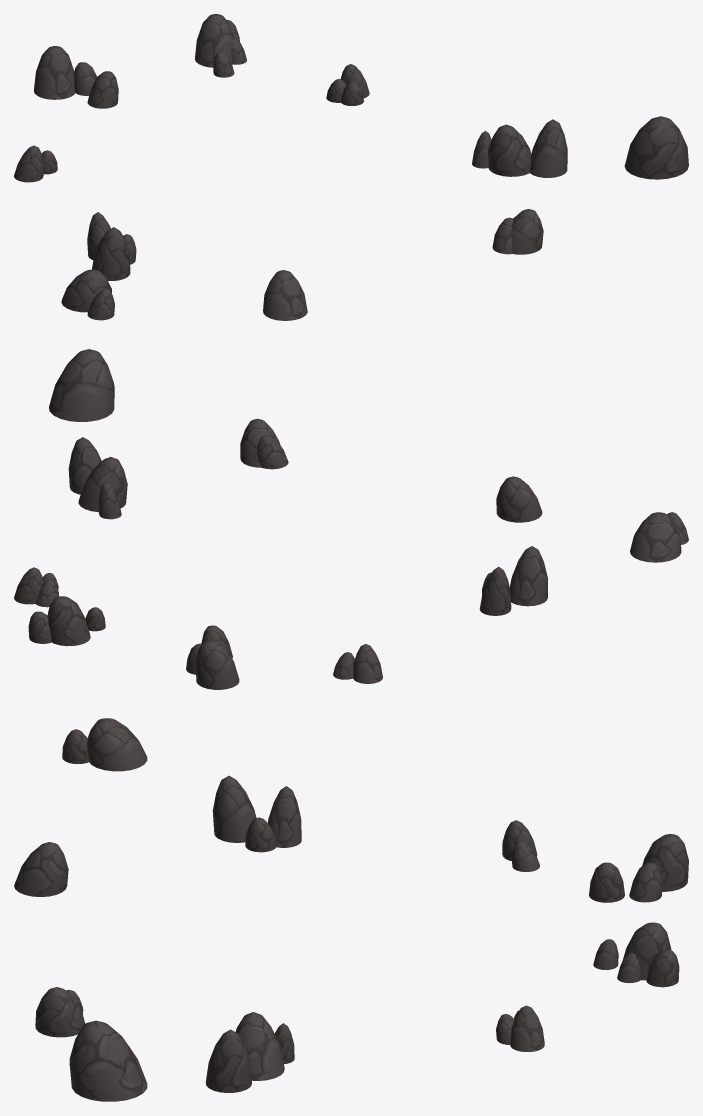
Rendered from rock_cluster_trial.fbx.
3 renders of one model, top to bottom at view 1: azimuth 30°, elevation 25°; view 2: azimuth 150°, elevation 25°; view 3: azimuth 270°, elevation 25°, orthographic. The views are drawn at different scales.
Parts seen in each view (by area): view 1: rockspike_012, rockspike_018, rockspike_010, rockspike_13, rockspike_016, rockspike_019, rockspike_02, rockspike_06, rockspike_22, rockspike_022, rockspike_10, rockspike_04 (+5 smaller); view 2: rockspike_012, rockspike_06, rockspike_02, rockspike_010, rockspike_019, rockspike_13, rockspike_018, rockspike_016, rockspike_03, rockspike_22, rockspike_10, rockspike_16 (+3 smaller); view 3: rockspike_012, rockspike_06, rockspike_13, rockspike_016, rockspike_018, rockspike_02, rockspike_22, rockspike_010, rockspike_03, rockspike_019, rockspike_19, rockspike_022 (+7 smaller).
Boxes of the visible parts, left/top/right/bottom form: rockspike_012: left=624, top=116, right=688, bottom=179; rockspike_018: left=488, top=124, right=531, bottom=176; rockspike_010: left=34, top=46, right=75, bottom=99; rockspike_13: left=263, top=270, right=307, bottom=320; rockspike_016: left=530, top=119, right=567, bottom=177; rockspike_019: left=195, top=14, right=234, bottom=67; rockspike_02: left=92, top=227, right=130, bottom=280; rockspike_06: left=61, top=269, right=111, bottom=312; rockspike_22: left=511, top=209, right=543, bottom=254; rockspike_022: left=87, top=71, right=118, bottom=108; rockspike_10: left=14, top=145, right=44, bottom=182; rockspike_04: left=87, top=288, right=114, bottom=320; rockspike_012: left=49, top=349, right=114, bottom=421; rockspike_06: left=630, top=512, right=681, bottom=562; rockspike_02: left=510, top=546, right=547, bottom=606; rockspike_010: left=195, top=640, right=239, bottom=689; rockspike_019: left=47, top=596, right=90, bottom=646; rockspike_13: left=496, top=476, right=542, bottom=522; rockspike_018: left=78, top=457, right=127, bottom=512; rockspike_016: left=68, top=437, right=101, bottom=494; rockspike_03: left=479, top=566, right=511, bottom=615; rockspike_22: left=240, top=418, right=280, bottom=467; rockspike_10: left=353, top=644, right=382, bottom=683; rockspike_16: left=257, top=435, right=288, bottom=469; rockspike_012: left=69, top=1020, right=147, bottom=1101; rockspike_06: left=87, top=718, right=147, bottom=771; rockspike_13: left=14, top=842, right=68, bottom=896; rockspike_016: left=205, top=1029, right=251, bottom=1092; rockspike_018: left=235, top=1012, right=284, bottom=1080; rockspike_02: left=212, top=775, right=256, bottom=842; rockspike_22: left=35, top=987, right=85, bottom=1037; rockspike_010: left=642, top=834, right=688, bottom=891; rockspike_03: left=268, top=786, right=301, bottom=847; rockspike_019: left=622, top=922, right=671, bottom=980; rockspike_19: left=510, top=1005, right=544, bottom=1051; rockspike_022: left=589, top=862, right=624, bottom=902.
Size of the model in its own units: 460 by 57.62 by 369.
